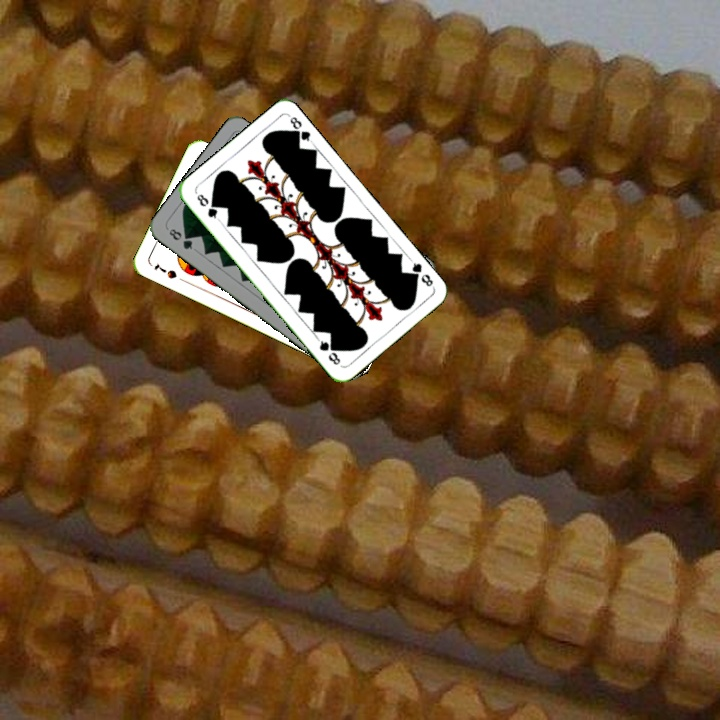G8: (405, 255, 436, 290), (193, 190, 222, 223), (165, 224, 195, 252)
S7: (150, 260, 180, 281)
